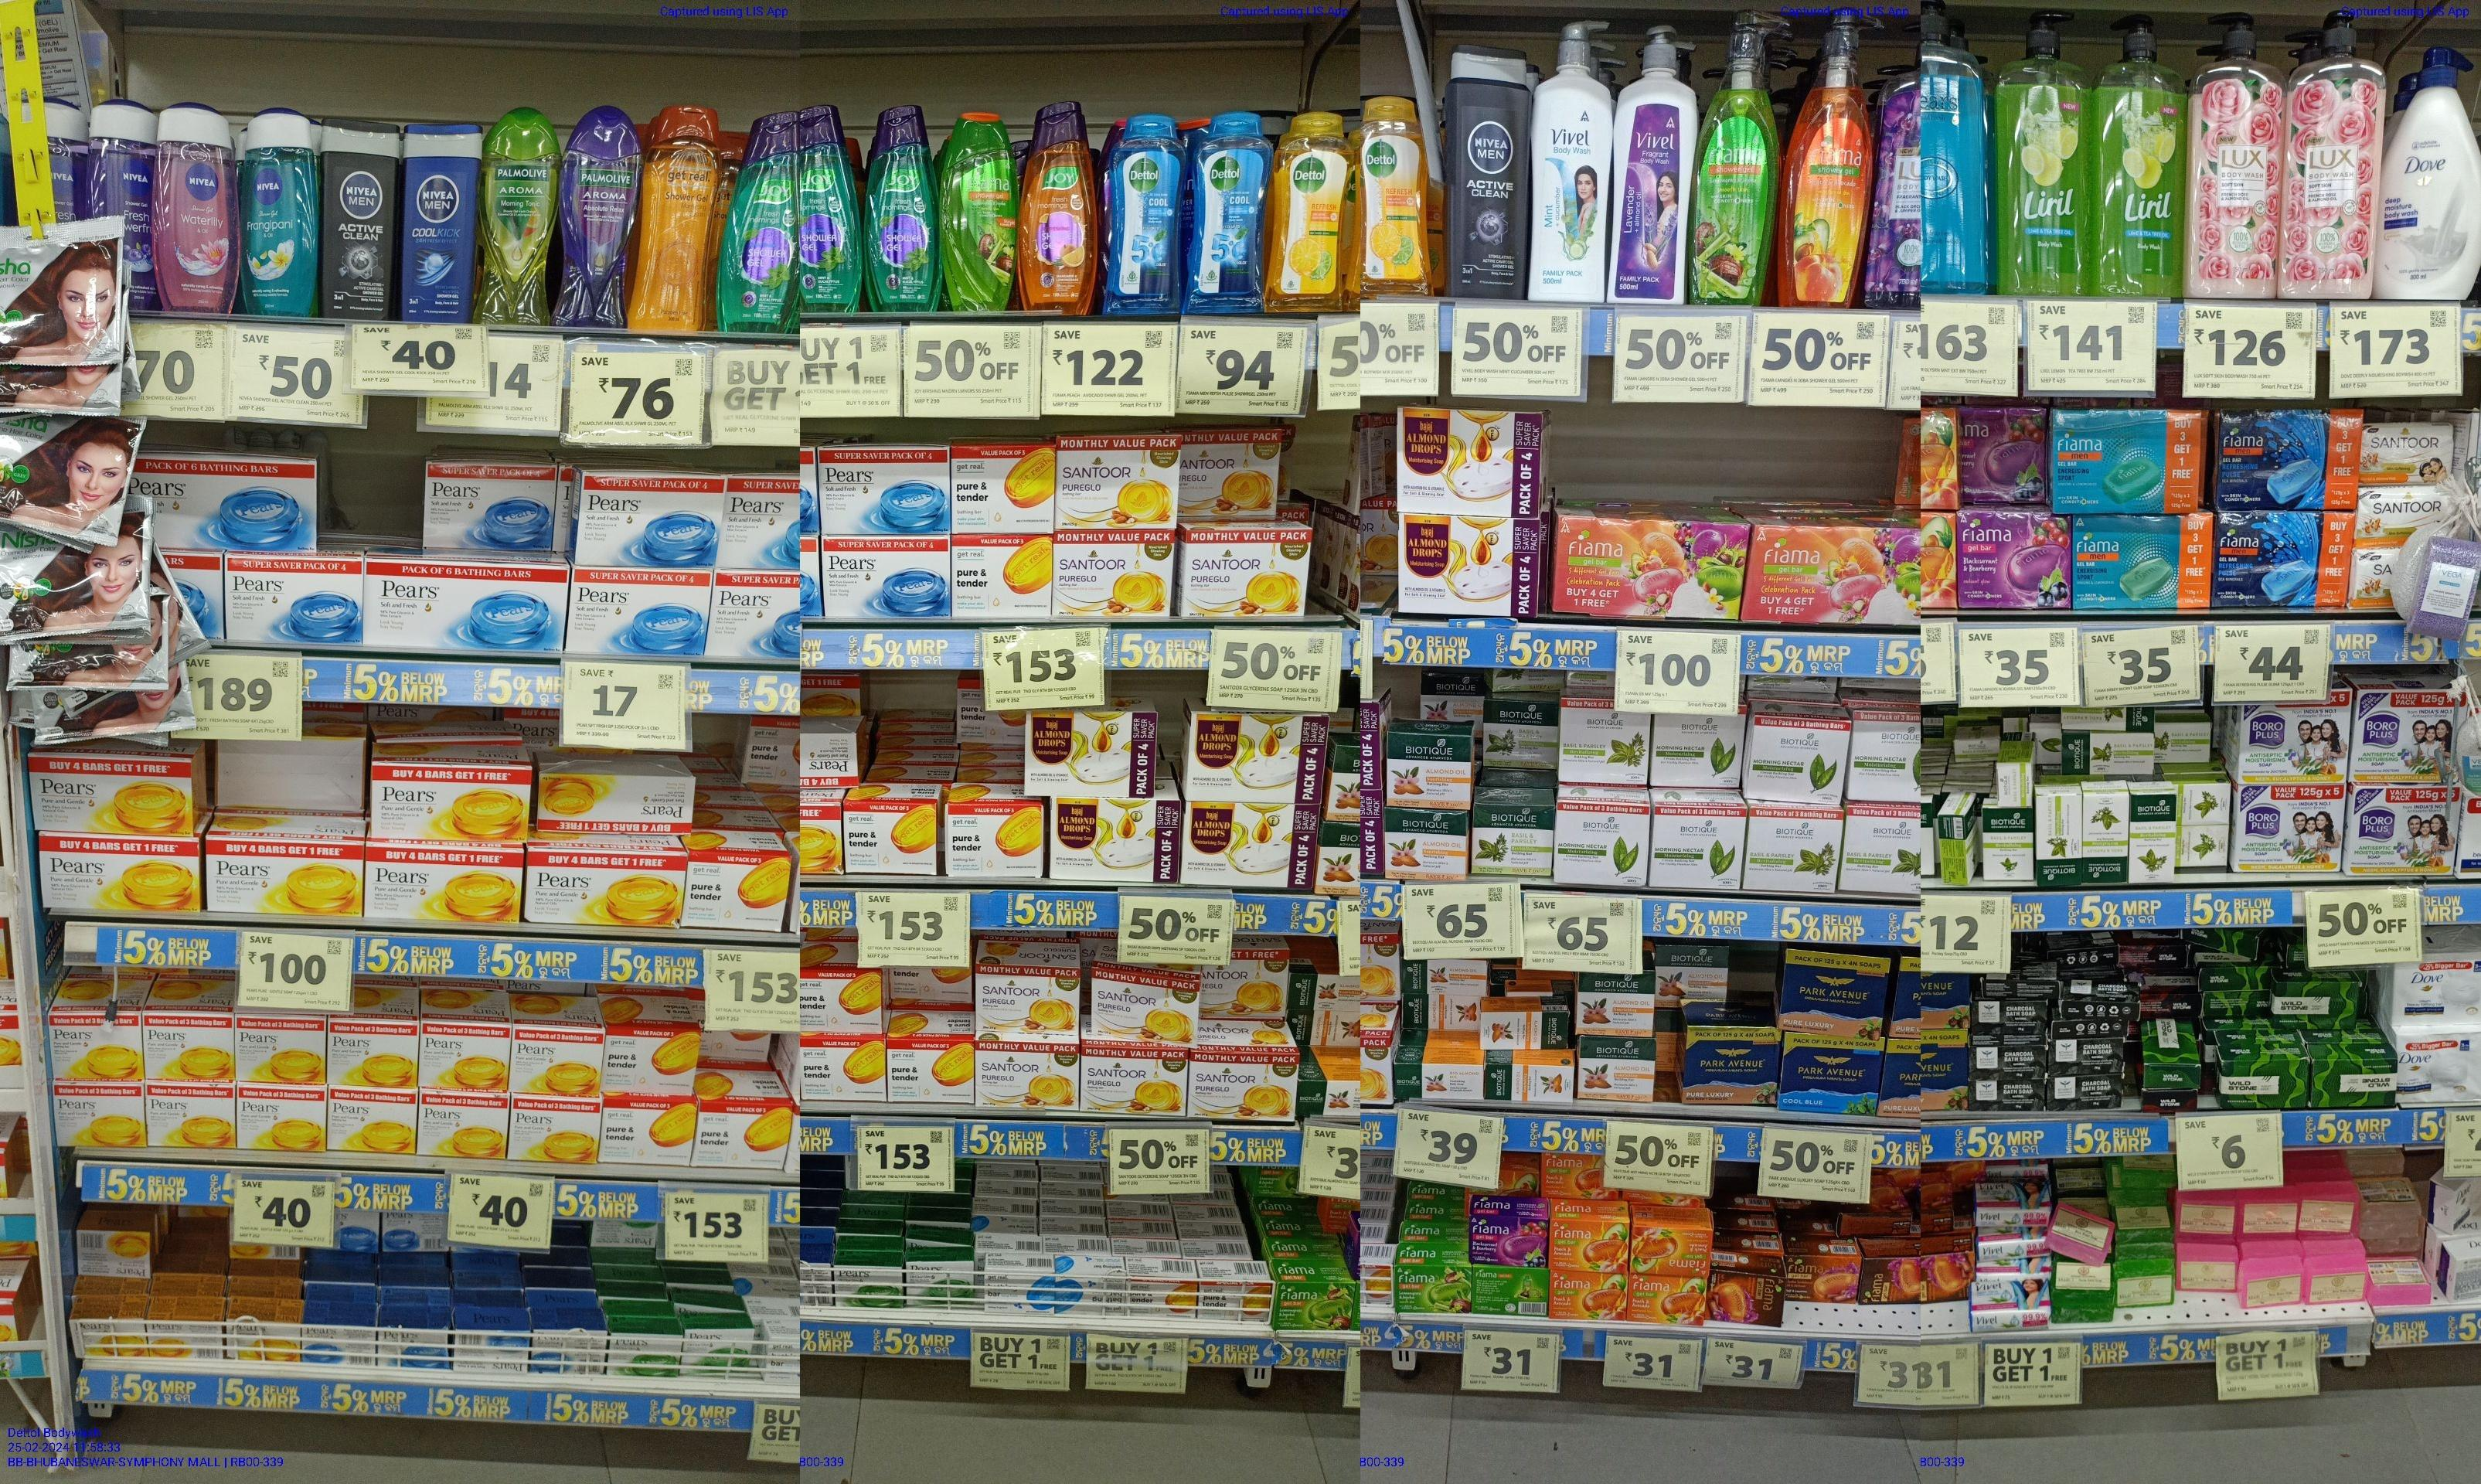Dettol_Bodywash_Cool: (1192, 113, 1271, 313), (1111, 115, 1187, 314)
Dettol_Bodywash_Refresh: (1273, 110, 1353, 313), (1358, 97, 1430, 295)
Fiama_Shower_Gel_Lemongrass_and_Jojoba_250ML: (941, 113, 1017, 309)
Get_Real_Shower_Gel_Moisturising_Glycerin_300ML: (655, 102, 724, 336)
Joy_Shower_Gel_Mandarin_and_Lemongrass_250ML: (1021, 99, 1097, 313)
Joy_Shower_Gel_Mint_and_Eucalyptus_250ML: (729, 108, 795, 332), (869, 102, 938, 313), (798, 104, 863, 311)
Nivea_Shower_Gel_Frangipani_and_Oil_250ML: (247, 110, 323, 314)
Nivea_Shower_Gel_Waterlily_and_Oil_250ML: (157, 104, 238, 307)
Palmolive_Aroma_Morning_Tonic_Shower_Gel_250ML: (484, 111, 556, 323)
Palmolive_Aroma_Relax_250ML: (563, 108, 643, 323)
